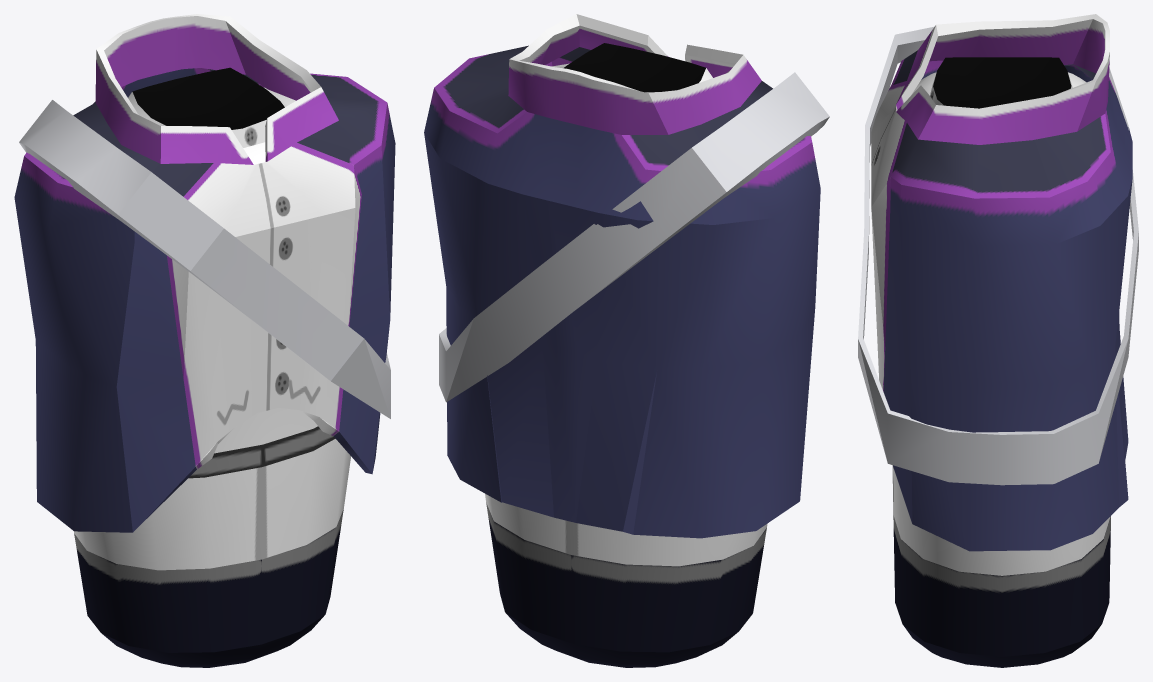
Rendered from fighterBody.obj.
3 renders of one model, left to right at view 1: azimuth 30°, elevation 25°; view 2: azimuth 150°, elevation 25°; view 3: azimuth 270°, elevation 25°, orthographic. The views are drawn at different scales.
Visible parts, largest first — view 1: fT; view 2: fT; view 3: fT.
Part boxes in pixels (<box>): fT: <box>14,14,395,667</box>; fT: <box>424,14,829,667</box>; fT: <box>858,14,1138,667</box>.
Size of the model in its own units: 1.15 by 1.88 by 0.7902.
Materials: 1 (1 with a texture image).
